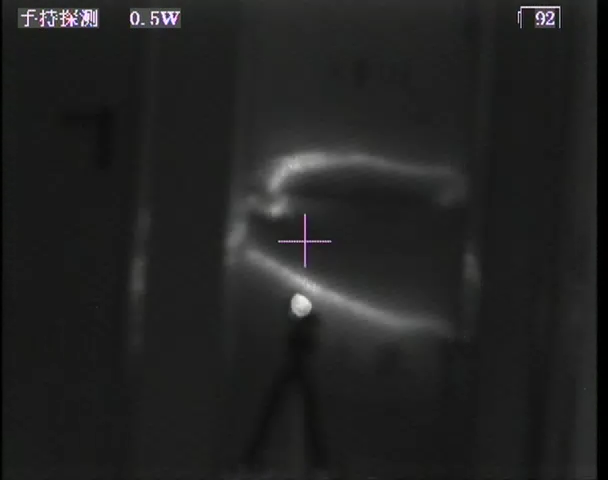my: (289, 291, 317, 319)
